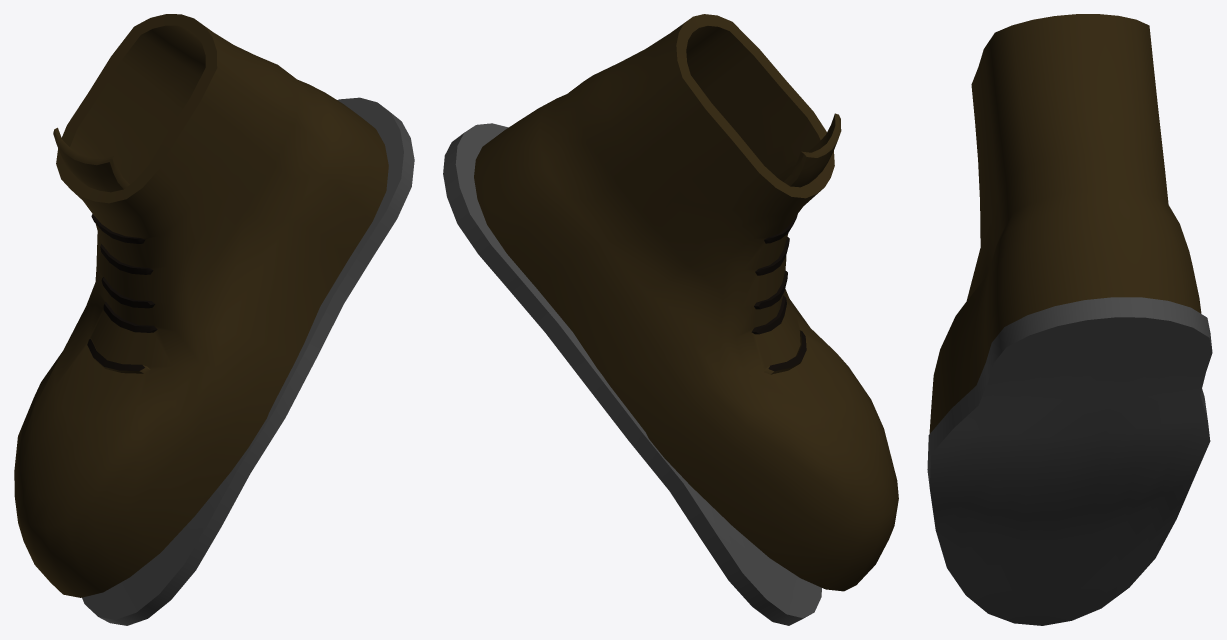
File: but.fbx
3 renders of one model, left to right at view 1: azimuth 30°, elevation 25°; view 2: azimuth 150°, elevation 25°; view 3: azimuth 270°, elevation 25°, orthographic. The views are drawn at different scales.
Parts seen in each view (by area): view 1: Plane.001, Plane; view 2: Plane.001, Plane; view 3: Plane, Plane.001.
Boxes of the visible parts, left/top/right/bottom form: Plane.001: left=14, top=14, right=388, bottom=597; Plane: left=82, top=97, right=414, bottom=625; Plane.001: left=474, top=14, right=898, bottom=591; Plane: left=443, top=123, right=821, bottom=625; Plane: left=927, top=297, right=1212, bottom=625; Plane.001: left=929, top=14, right=1201, bottom=433.
Size of the model in its own units: 353 by 486 by 188.
